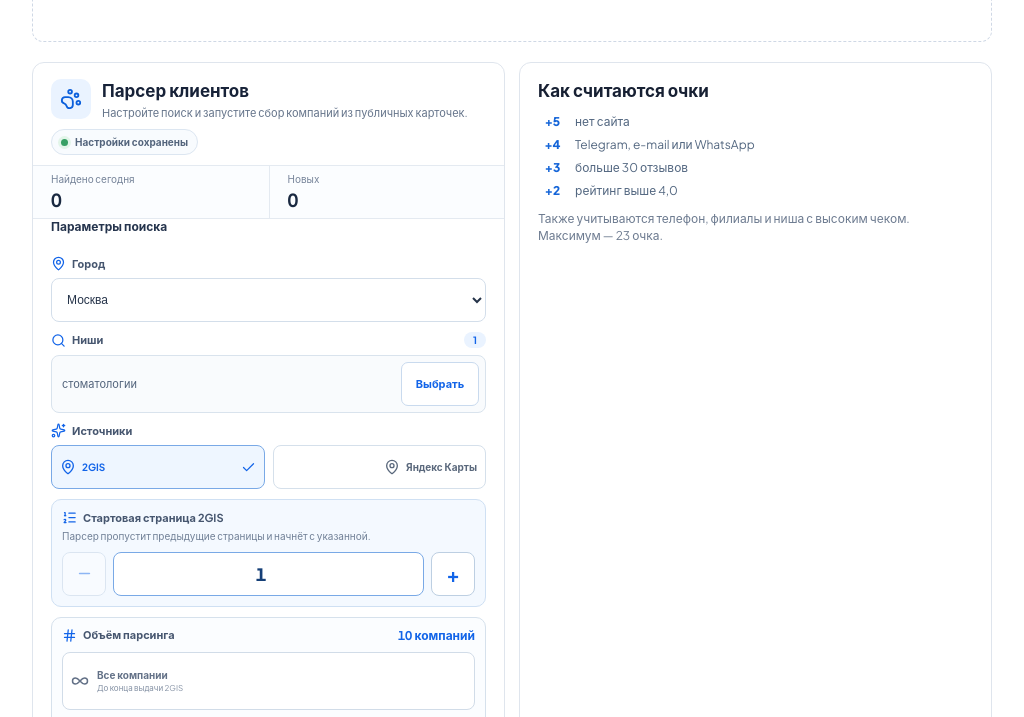
Test: client parser controls › restores focus to niche selection after closing its dialog
This screenshot has width=1024, height=717.
(page scrolled)
Step 1. Click the button "Выбрать" → [440, 384], box [401,362,479,406]
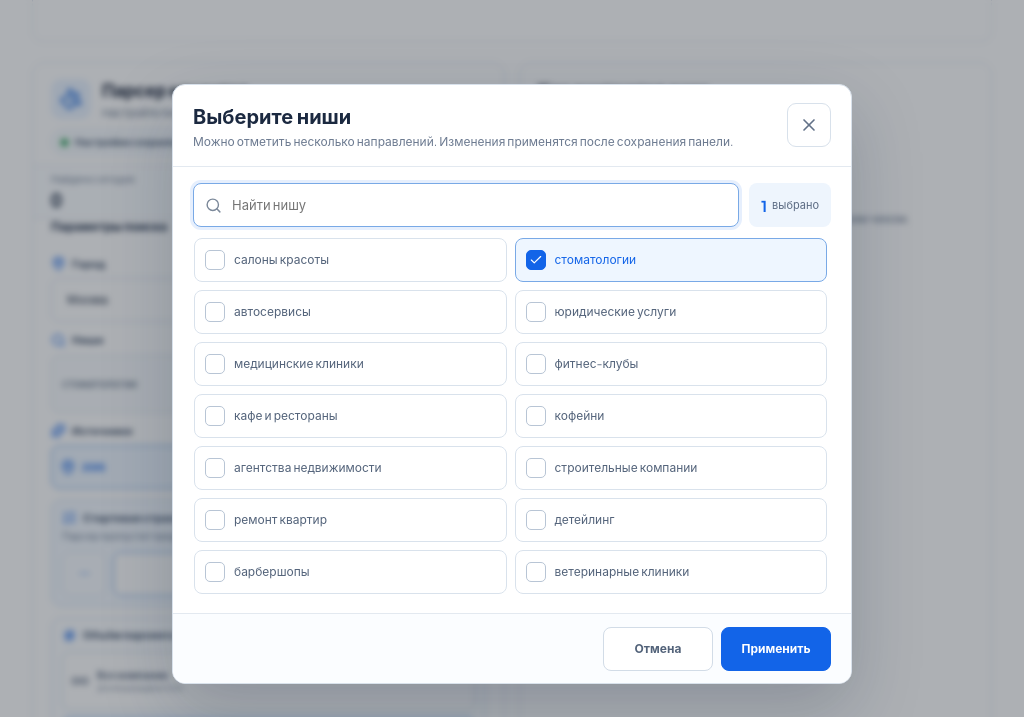
Step 2. Press Escape
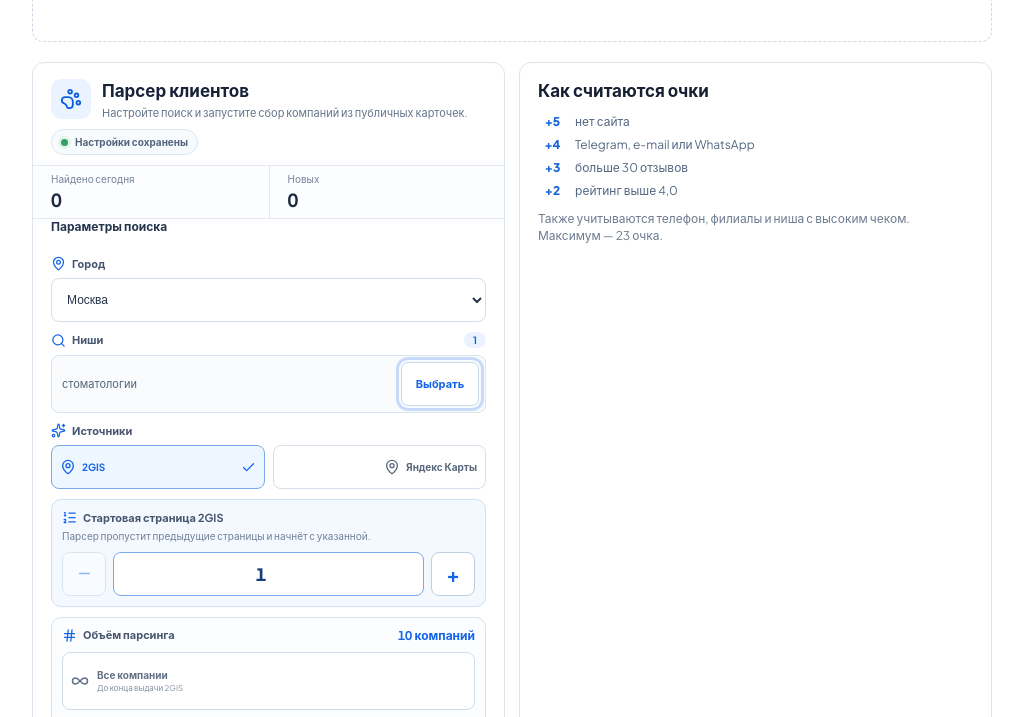
Expected: the heading "Выберите ниши" is gone
